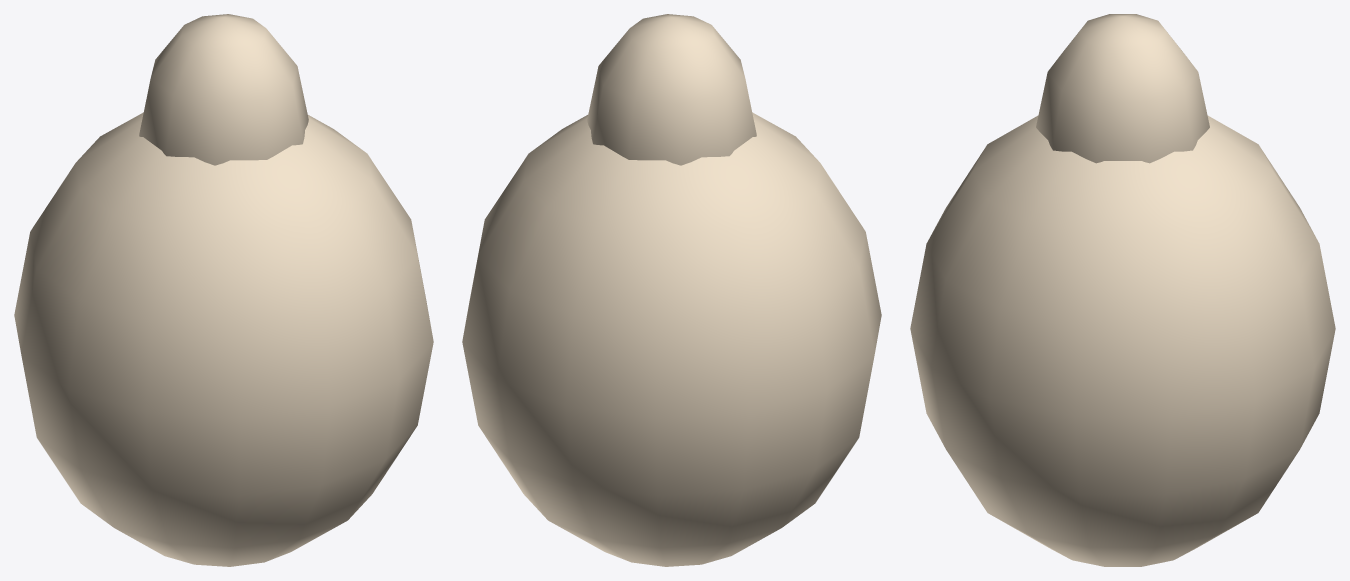
File: opera_candymaker_candy_3.glb
3 renders of one model, left to right at view 1: azimuth 30°, elevation 25°; view 2: azimuth 150°, elevation 25°; view 3: azimuth 270°, elevation 25°, orthographic.
Visible parts, largest first — view 1: VisualMesh.004; view 2: VisualMesh.004; view 3: VisualMesh.004.
Part boxes in pixels (bbox=[...]): VisualMesh.004: bbox=[14, 14, 433, 566]; VisualMesh.004: bbox=[462, 14, 881, 566]; VisualMesh.004: bbox=[910, 14, 1335, 566].
Bounding box in the file's own units: 2.14 × 3.04 × 2.2.
